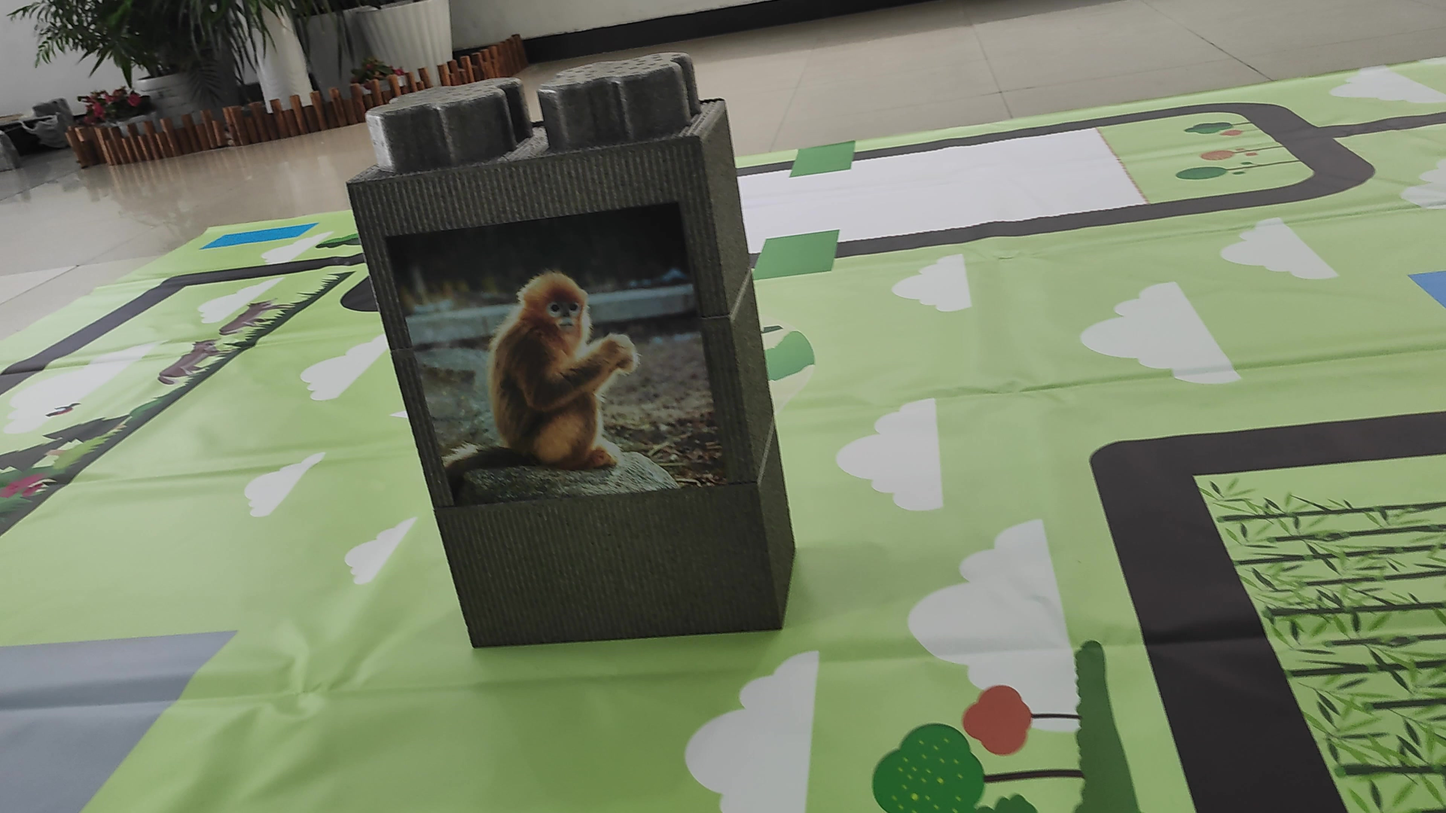monkey: (441, 259, 647, 508)
